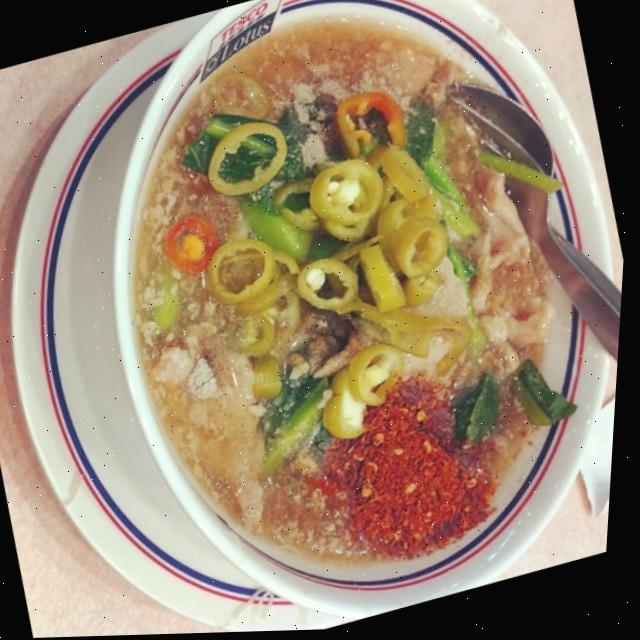面条主食: (25, 0, 640, 639)
